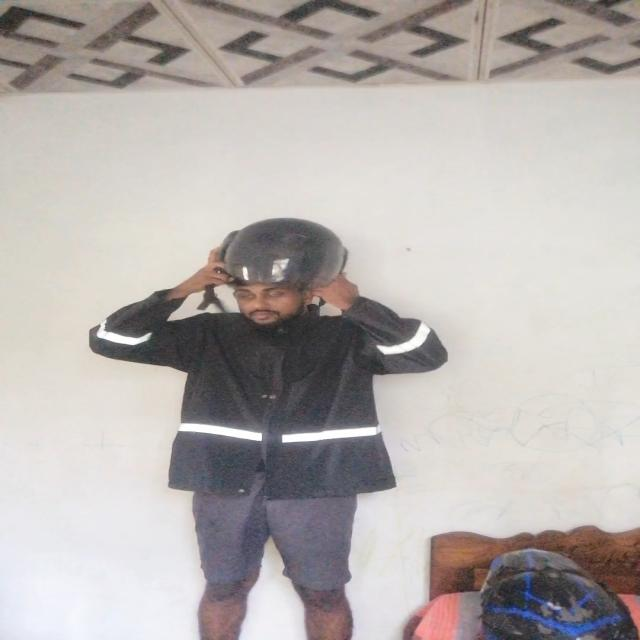Helmet_Wearer: (195, 215, 366, 331)
Jacket_Wearer: (78, 288, 476, 542)
Person: (105, 205, 458, 640)
